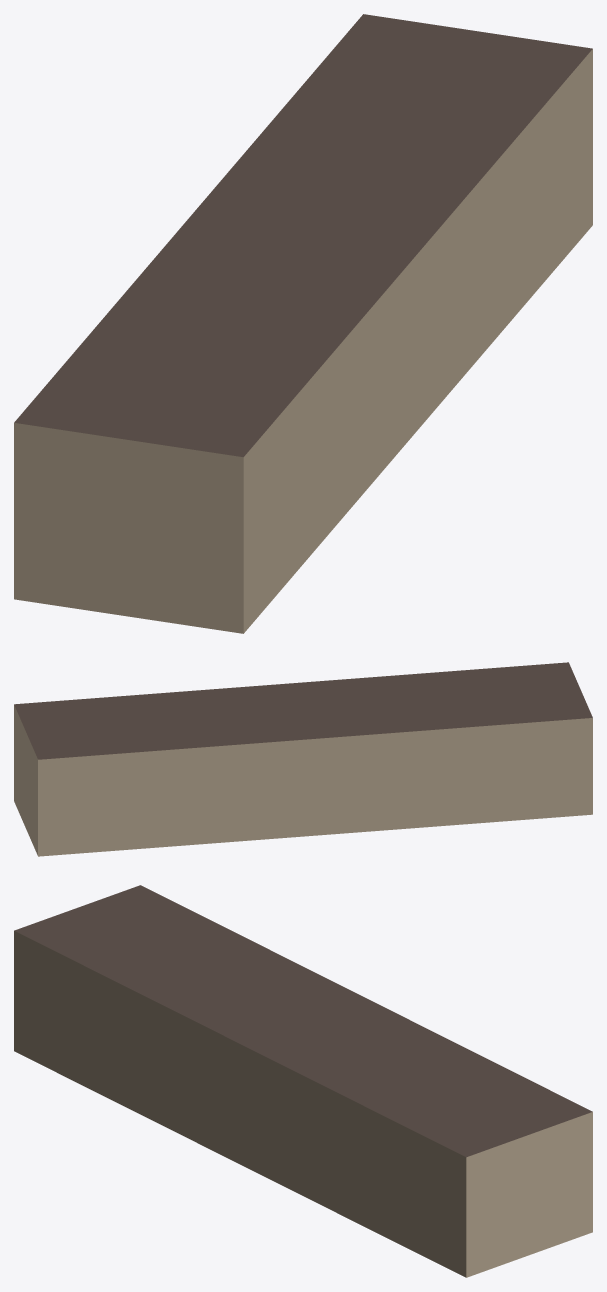
3 renders of one model, top to bottom at view 1: azimuth 30°, elevation 25°; view 2: azimuth 150°, elevation 25°; view 3: azimuth 270°, elevation 25°, orthographic. The views are drawn at different scales.
Parts seen in each view (by area): view 1: HP-w859488717; view 2: HP-w859488717; view 3: HP-w859488717.
Part boxes in pixels (x1,y1,x2,y2): HP-w859488717: [14, 14, 592, 633]; HP-w859488717: [14, 662, 592, 856]; HP-w859488717: [14, 885, 592, 1277].
Bounding box in the file's own units: 43.6 × 9 × 39.18.
